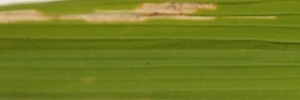RiceBacterialBlight: (1, 3, 221, 26)
